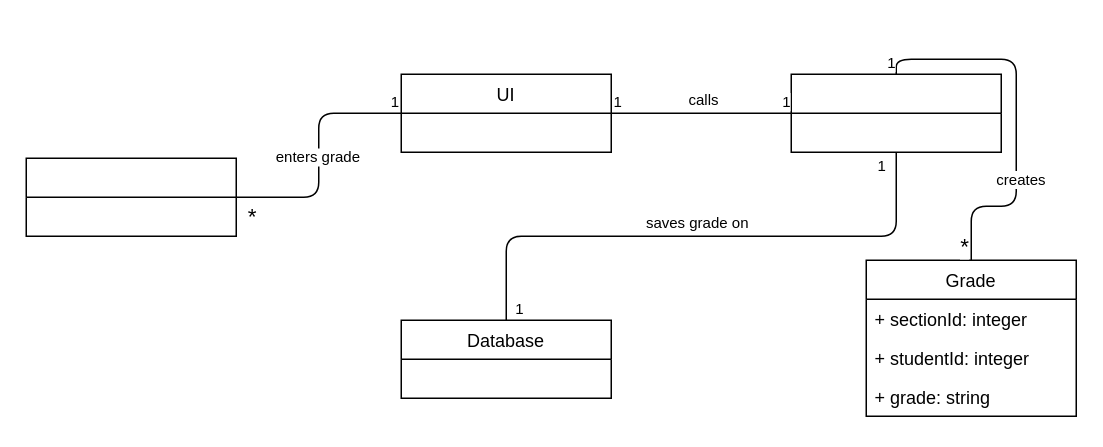
The diagram is 1103 pixels wide and 447 high, and some of its shapes have lost their labels. The shapes that lost their labels are listed below. From the top down, each one's box as (x1, y1, x2, y2) in pixels, then its label:
(790, 73, 1001, 152): API
(25, 157, 236, 236): Teacher
